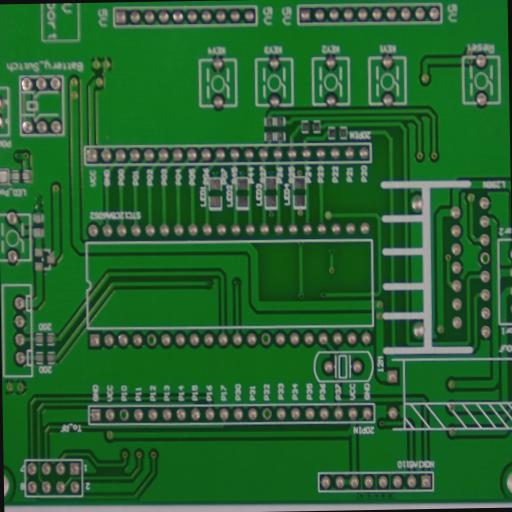missing_hole: (261, 406, 273, 422), (260, 331, 272, 346), (146, 333, 158, 347), (118, 408, 130, 422), (480, 251, 490, 265)
